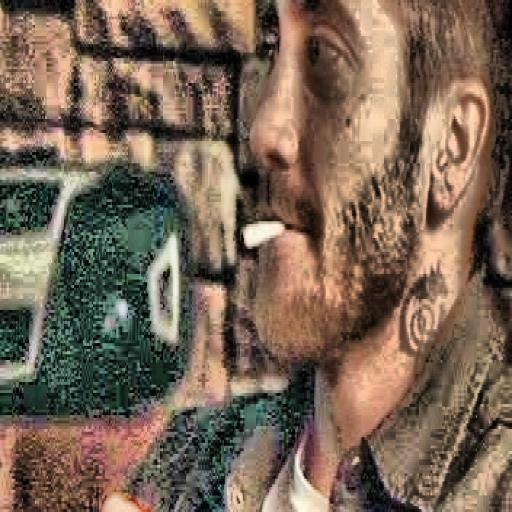Asbak: (244, 227, 284, 246)
Merokok: (101, 0, 512, 512)
